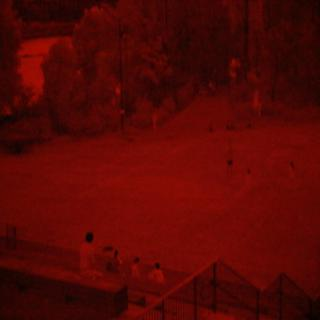person: (73, 225, 100, 295), (124, 248, 142, 286), (149, 252, 163, 294)
